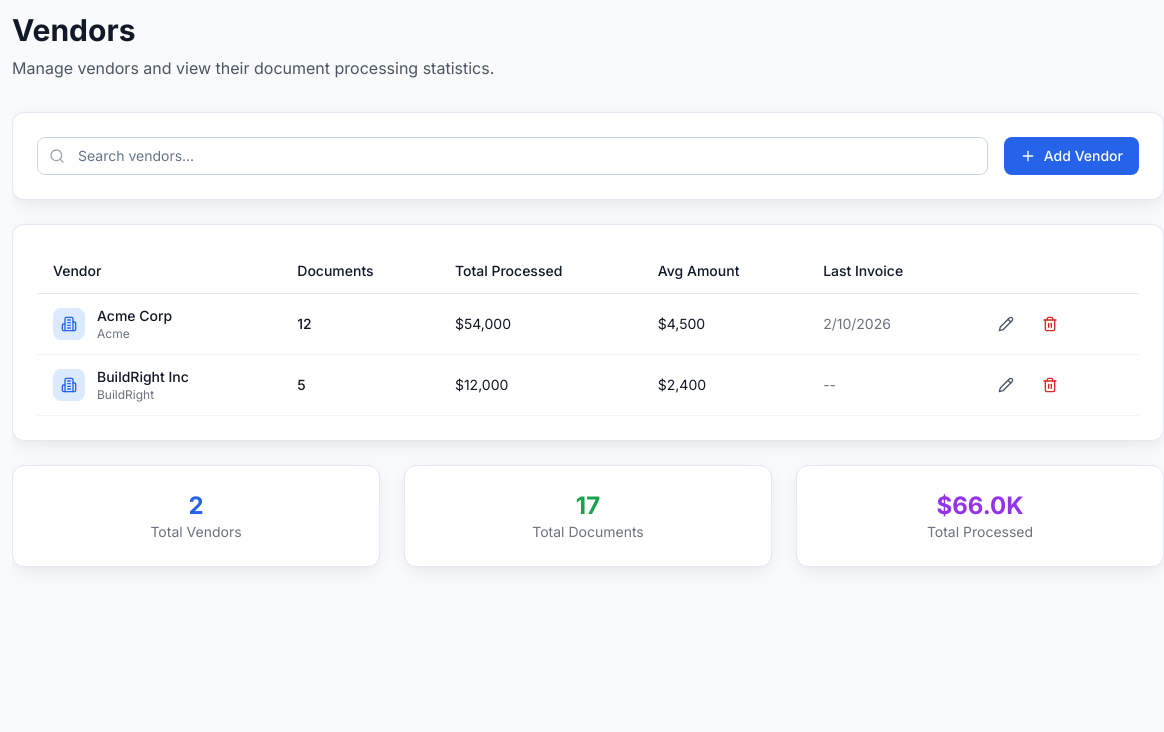
Test case: Vendors › shows delete confirmation when clicking delete button
Click the button named "Delete " at {"x": 1050, "y": 324}, box 1030,310 -> 1070,338
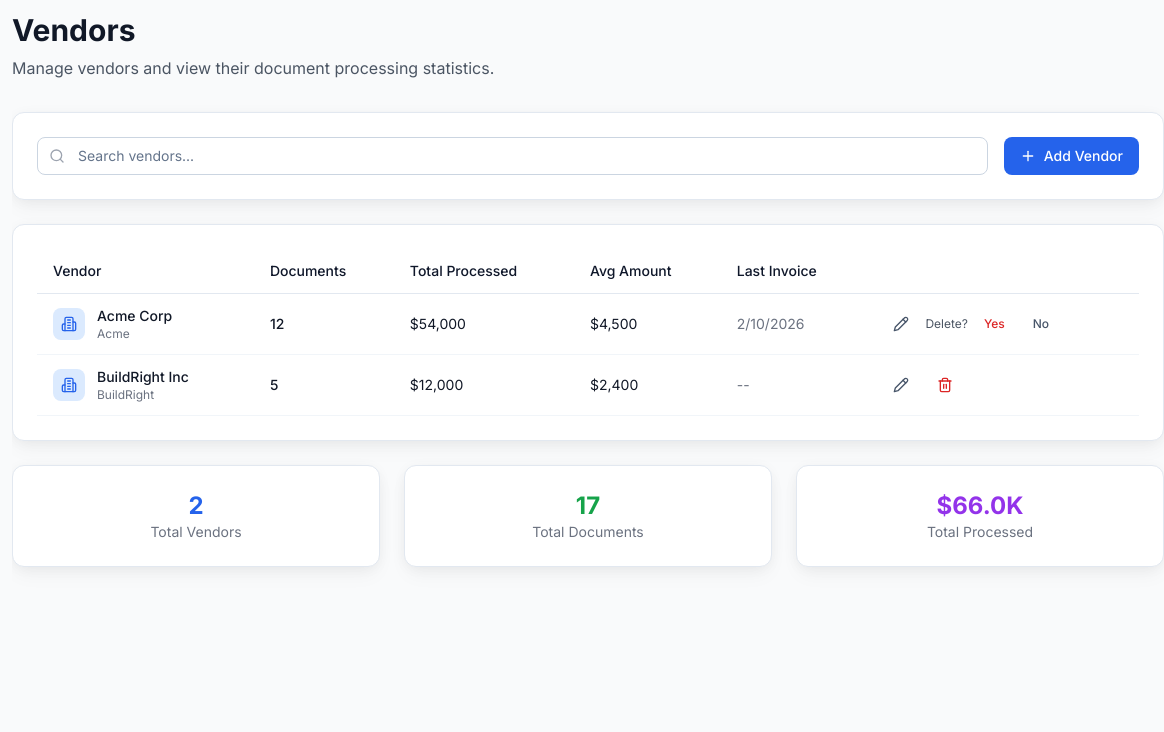
Now the text "Delete?" is shown, box 926,316 -> 968,332
